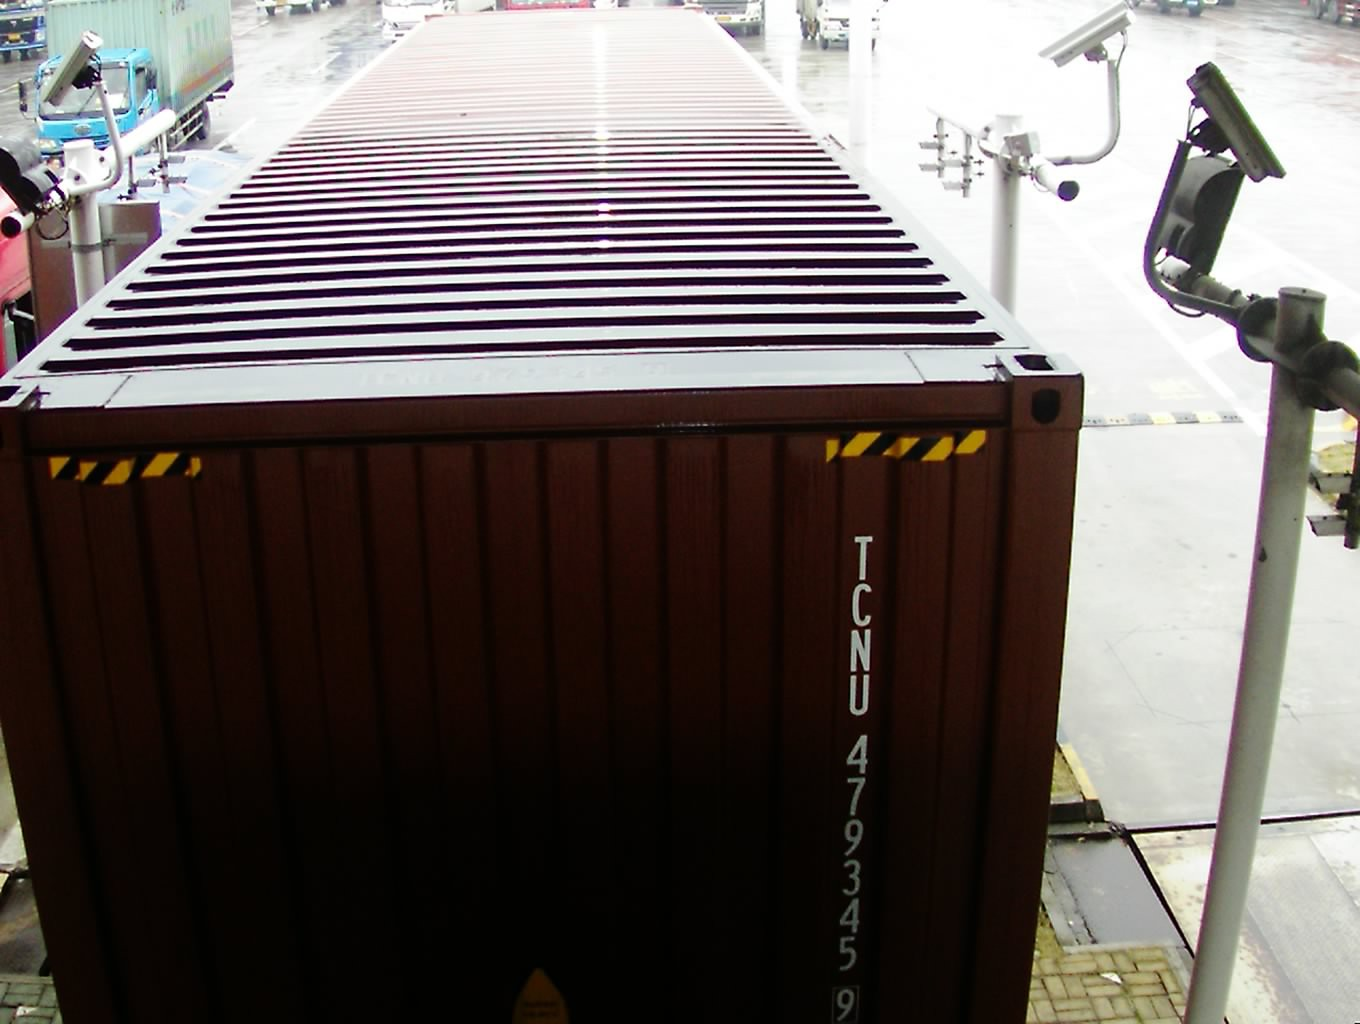words: (834, 525, 881, 1024)
